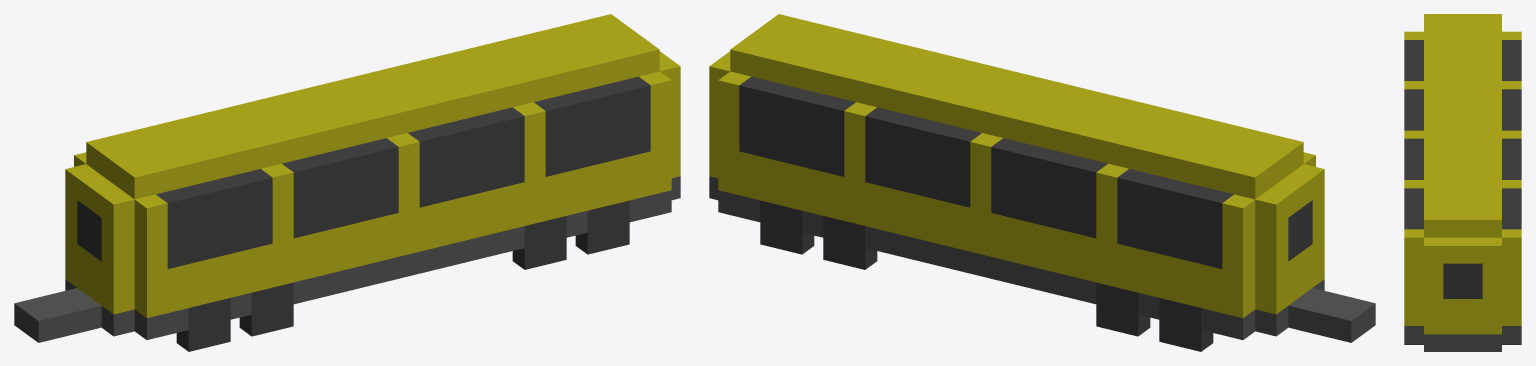
File: train-trailer-v2-yellow.gltf
The picture shows the model from 3 angles, left to right: view 1: azimuth 30°, elevation 25°; view 2: azimuth 150°, elevation 25°; view 3: azimuth 270°, elevation 25°; orthographic projection. The views are drawn at different scales.
Parts seen in each view (by area): view 1: model, wheels; view 2: model, wheels; view 3: model.
Boxes of the visible parts, x1,y1,x2,y2 form: model: (14, 14, 680, 342); wheels: (176, 200, 629, 351); model: (709, 14, 1375, 342); wheels: (760, 200, 1213, 351); model: (1404, 14, 1521, 351).
Bounding box in the file's own units: 3 × 0.8 × 0.6.
Materials: 2 (2 with a texture image).
